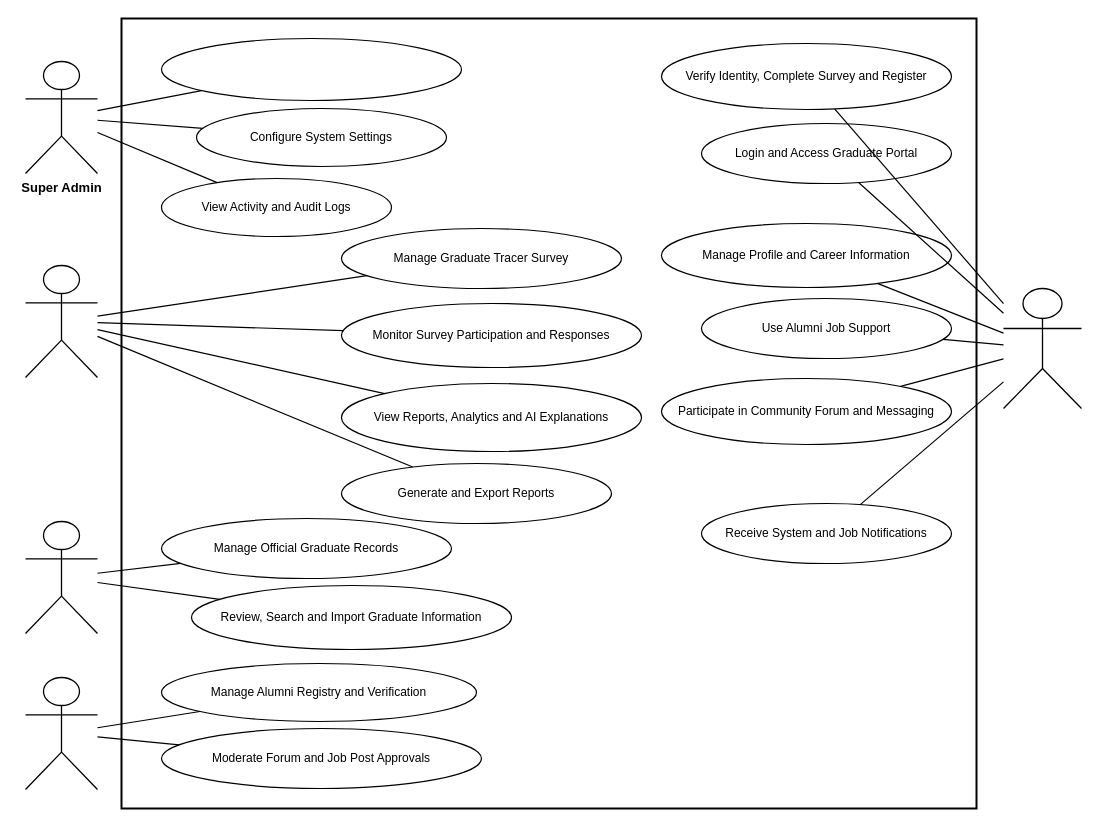
Some shapes in this 1115 by 829 pixel diagram are drawn without their labels. Here are the shapes that lost their labels. From the top down, the centre of each, then its label:
At [311,69]: "Manage Administrator Accounts and Roles".
At [546,52]: "GradTrack Responsive Web System".
At [546,80]: "Graduate Tracer and Alumni Job Support System".
At [61,321]: "Admin".
At [1042,348]: "Graduate / Alumni".
At [61,577]: "Registrar".
At [61,733]: "Alumni Admin".
